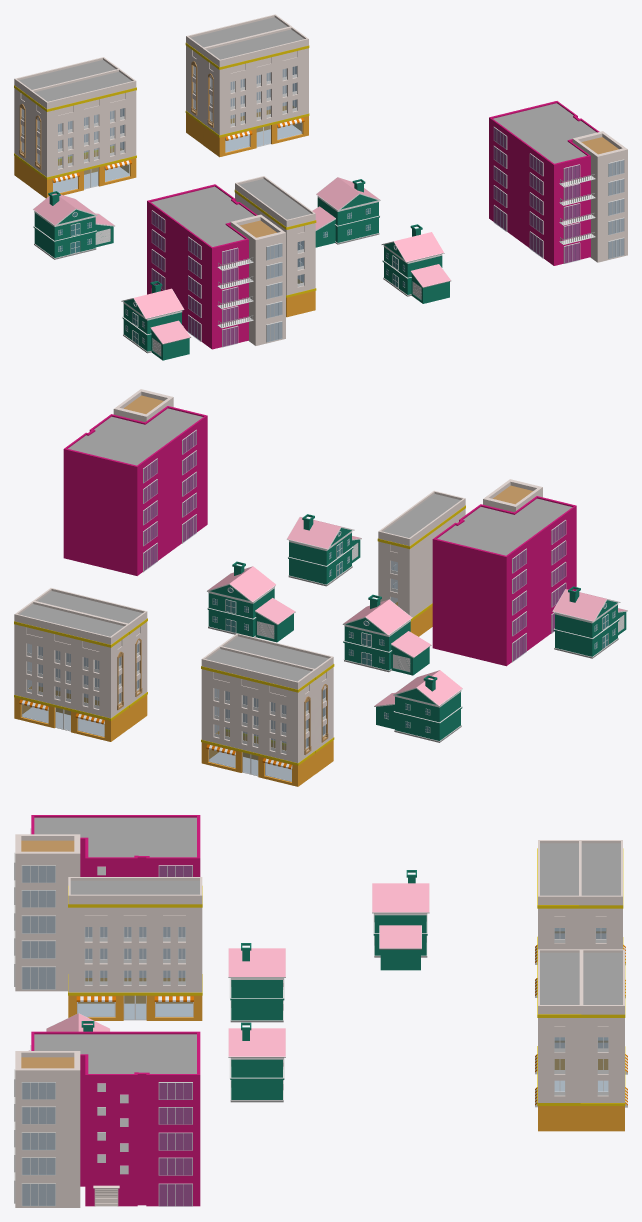
The model's file is Instacart_Project_residential_v3.gltf.
3 renders of one model, top to bottom at view 1: azimuth 30°, elevation 25°; view 2: azimuth 150°, elevation 25°; view 3: azimuth 270°, elevation 25°, orthographic. The views are drawn at different scales.
Parts seen in each view (by area): view 1: House-Pink Light (×7), Cube-Mat.5 (×2), Cube-Grey (×2), house-dark blue (×4), Roof (×5), house-Mat.5 (×4), House-Orange (×4), Window1-Glass (×2), Windows2-Glass (×2), Window3-Glass (×2), Window4-Glass (×2), House-Yellow (×2) (+3 smaller); view 2: Cube-Mat.5 (×2), House-Pink Light (×7), house-dark blue (×5), Cube-Grey (×2), Roof (×5), house-Mat.5 (×5), House-Orange (×3), Window4-Glass (×2), Window3-Glass (×2), House-Yellow (×2), Cube.16-dark blue (×2), Cube.16-Mat.5 (×2); view 3: House-Pink Light (×7), Cube-Mat.5 (×2), Cube-Grey (×2), Roof (×5), Window1-Glass (×2), house-Mat.5 (×4), house-dark blue (×3), House-Orange (×3), Window5-Glass, Window1-white (×2), House-Brown (×2), House-Yellow (+7 smaller).
Part boxes in pixels (x1=…): House-Pink Light (×7): x1=14, y1=14, x2=627, y2=345; Cube-Mat.5 (×2): x1=147, y1=101, x2=599, y2=349; Cube-Grey (×2): x1=151, y1=103, x2=596, y2=246; house-dark blue (×4): x1=33, y1=194, x2=442, y2=351; Roof (×5): x1=19, y1=17, x2=311, y2=219; house-Mat.5 (×4): x1=33, y1=177, x2=443, y2=318; House-Orange (×4): x1=14, y1=106, x2=315, y2=317; Window1-Glass (×2): x1=267, y1=160, x2=624, y2=341; Windows2-Glass (×2): x1=222, y1=165, x2=579, y2=346; Window3-Glass (×2): x1=188, y1=154, x2=542, y2=340; Window4-Glass (×2): x1=152, y1=128, x2=506, y2=290; House-Yellow (×2): x1=29, y1=45, x2=309, y2=179; Cube-Mat.5 (×2): x1=63, y1=406, x2=576, y2=666; House-Pink Light (×7): x1=14, y1=389, x2=542, y2=762; house-dark blue (×5): x1=207, y1=528, x2=619, y2=740; Cube-Grey (×2): x1=68, y1=408, x2=572, y2=555; Roof (×5): x1=19, y1=494, x2=460, y2=681; house-Mat.5 (×5): x1=208, y1=517, x2=613, y2=705; House-Orange (×3): x1=14, y1=686, x2=333, y2=786; Window4-Glass (×2): x1=144, y1=459, x2=526, y2=661; Window3-Glass (×2): x1=183, y1=430, x2=565, y2=632; House-Yellow (×2): x1=14, y1=621, x2=316, y2=765; Cube.16-dark blue (×2): x1=255, y1=612, x2=429, y2=675; Cube.16-Mat.5 (×2): x1=255, y1=598, x2=430, y2=656; House-Pink Light (×7): x1=15, y1=834, x2=624, y2=1207; Cube-Mat.5 (×2): x1=31, y1=815, x2=200, y2=1206; Cube-Grey (×2): x1=34, y1=817, x2=196, y2=1073; Roof (×5): x1=70, y1=843, x2=622, y2=1004; Window1-Glass (×2): x1=22, y1=866, x2=55, y2=1205; house-Mat.5 (×4): x1=46, y1=883, x2=429, y2=1056; house-dark blue (×3): x1=230, y1=915, x2=427, y2=1099; House-Orange (×3): x1=68, y1=978, x2=624, y2=1131; Window5-Glass: x1=159, y1=1083, x2=192, y2=1206; Window1-white (×2): x1=14, y1=852, x2=55, y2=1206; House-Brown (×2): x1=21, y1=840, x2=74, y2=1068; House-Yellow: x1=68, y1=886, x2=202, y2=995.
Bounding box in the file's own units: 1566 × 340 × 1375.
